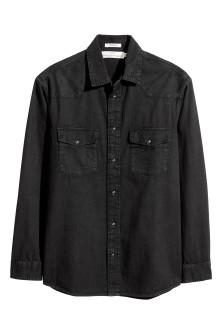teeshirt: (9, 32, 216, 303)
